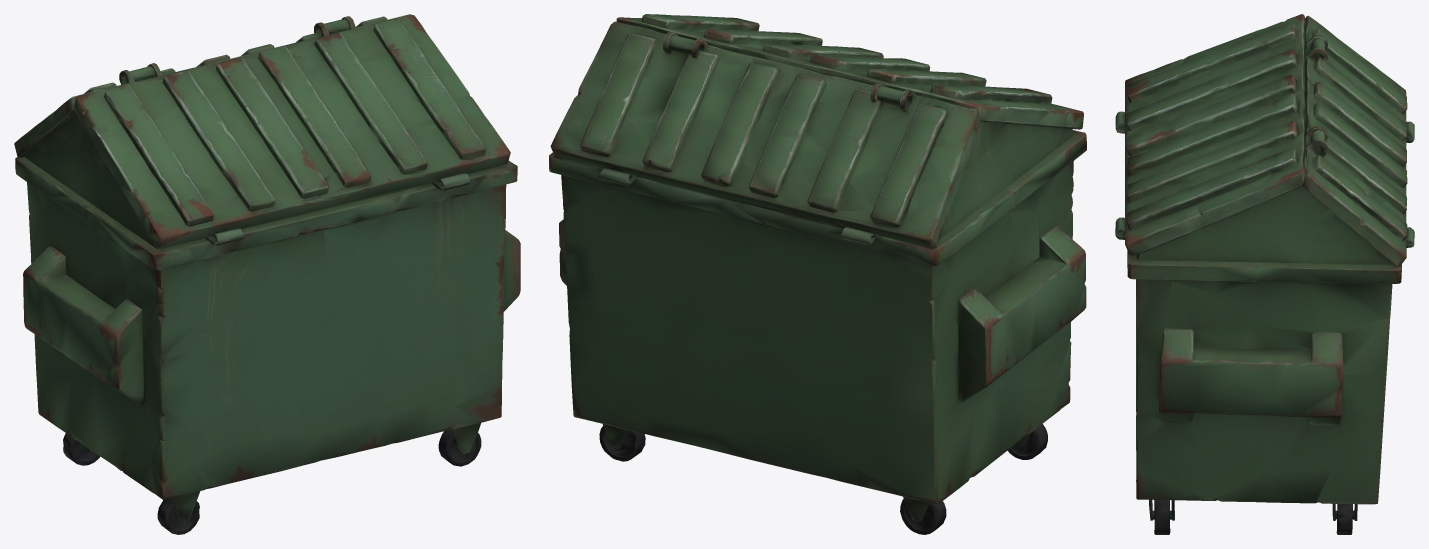
The model's file is dumpster_zelenyy_idle.glb.
3 views of the same model, side by side, from view 1: azimuth 30°, elevation 25°; view 2: azimuth 150°, elevation 25°; view 3: azimuth 270°, elevation 25° (orthographic). The views are drawn at different scales.
Parts seen in each view (by area): view 1: tripo_node_8f49e4e4-bae5-44bf-bee6-73ec4d4f6091; view 2: tripo_node_8f49e4e4-bae5-44bf-bee6-73ec4d4f6091; view 3: tripo_node_8f49e4e4-bae5-44bf-bee6-73ec4d4f6091.
Part boxes in pixels (x1=…): tripo_node_8f49e4e4-bae5-44bf-bee6-73ec4d4f6091: x1=14, y1=14, x2=520, y2=534; tripo_node_8f49e4e4-bae5-44bf-bee6-73ec4d4f6091: x1=549, y1=14, x2=1086, y2=534; tripo_node_8f49e4e4-bae5-44bf-bee6-73ec4d4f6091: x1=1115, y1=14, x2=1414, y2=534.
Size of the model in its own units: 1.18 by 1.1 by 0.7868.
1 material, 1 textured.
